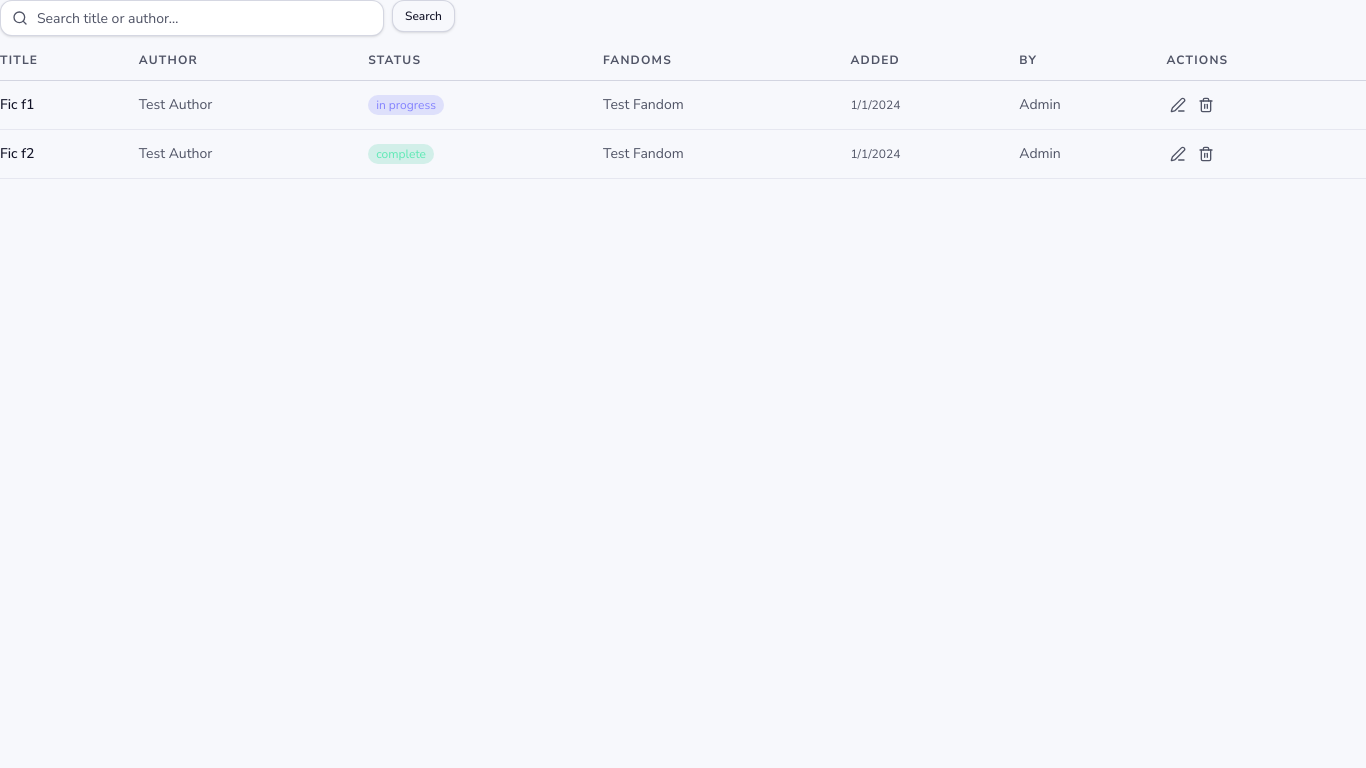
Test: FicsSection › opens edit dialog on edit click
Expected: the link "Fic f1" is shown, top-left (0, 95), bottom-right (34, 114)
Click the button named "Edit fic" in the row of "Fic f1": (1178, 105) top-left (1166, 93), bottom-right (1190, 117)
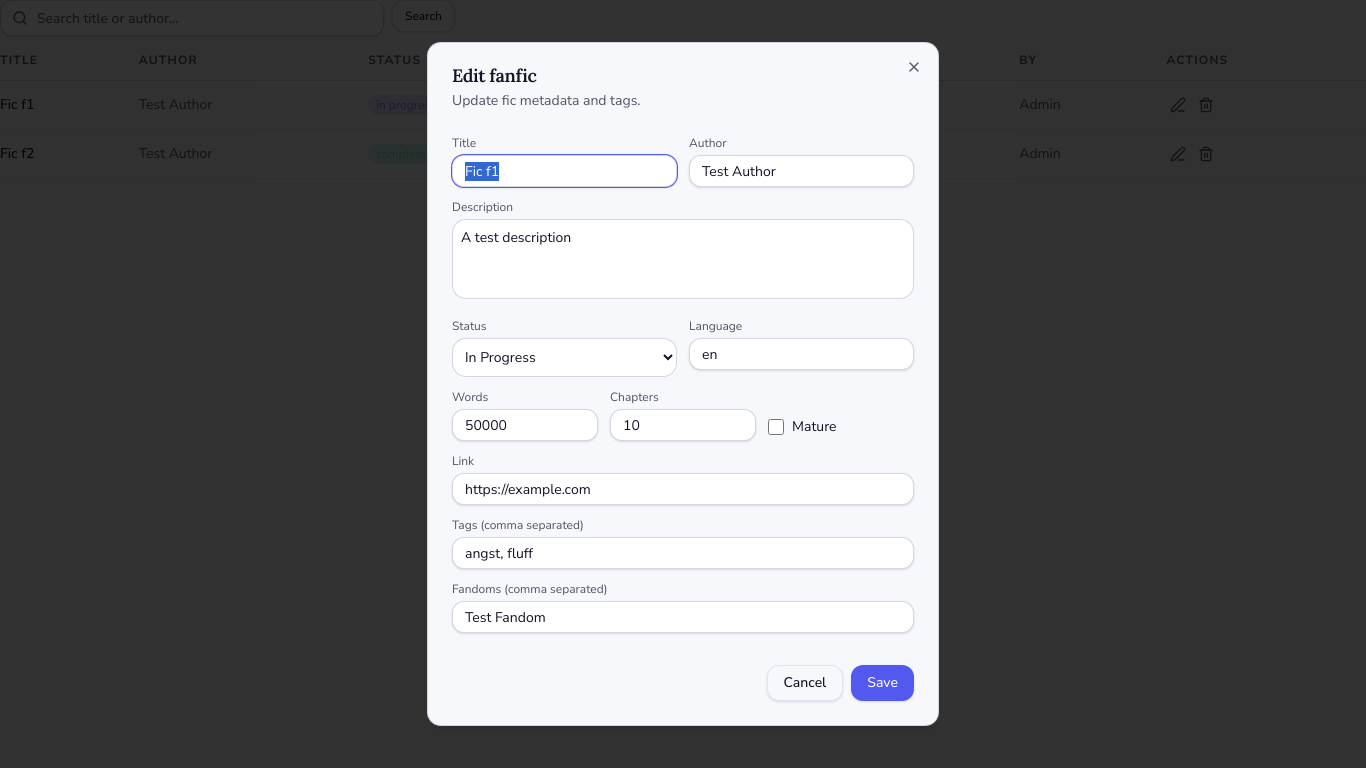
Now the heading "Edit fanfic" is shown, box top-left (452, 64), bottom-right (536, 87)
